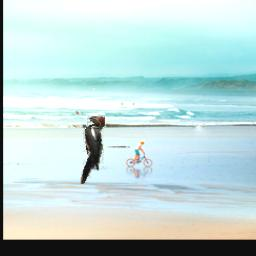Woodpecker: (82, 116, 106, 185)
